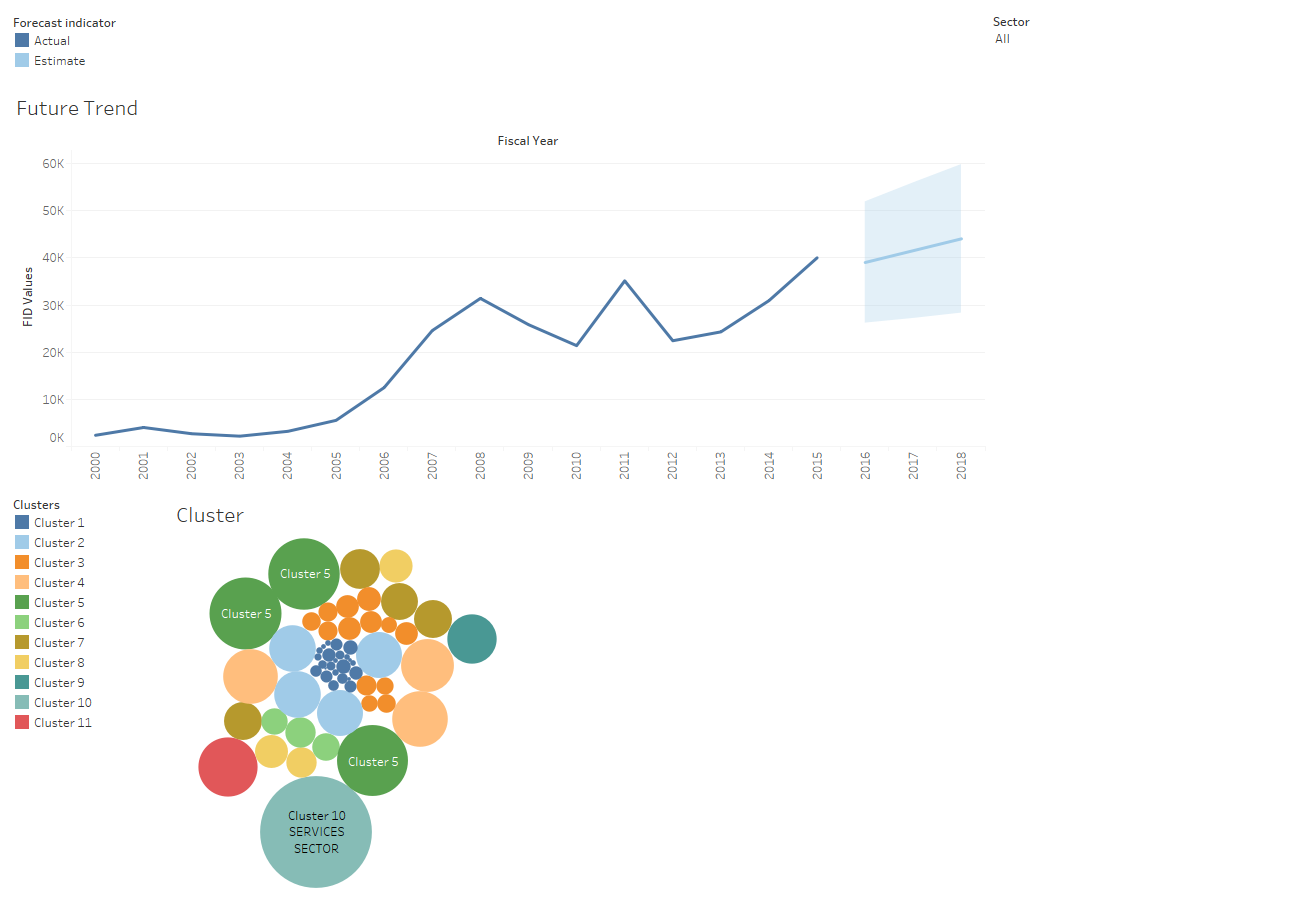

This screenshot's page, from the dashboard's own definition file:
{"tool":"tableau","page":{"name":"Dashboard 2","canvas":[1300,900],"ordinal":1},"visuals":[{"type":"worksheet","box":[0,0,1300,900]},{"type":"worksheet","param":"horz","box":[8,8,1284,884]},{"type":"worksheet","box":[8,8,981,884]},{"type":"worksheet","title":"Future Trend","mark":"Automatic","rows":["Pivot Field Values"],"cols":["Calculation_1034139109435863042"],"param":"[federated.14hefdv1iyk2om1h2tzwq1qrkhpz].[none:Forecast Indicator:nk]","box":[8,8,981,75]},{"type":"worksheet","param":"vert","box":[989,8,303,884]},{"type":"worksheet","title":"Future Trend","mark":"Automatic","rows":["Pivot Field Values"],"cols":["Calculation_1034139109435863042"],"param":"[federated.14hefdv1iyk2om1h2tzwq1qrkhpz].[none:Sector:nk]","box":[989,8,303,430]},{"type":"worksheet","title":"Future Trend","mark":"Automatic","rows":["Pivot Field Values"],"cols":["Calculation_1034139109435863042"],"box":[8,83,981,407]},{"type":"worksheet","title":"Cluster","mark":"Circle","param":"[federated.14hefdv1iyk2om1h2tzwq1qrkhpz].[none:AdhocCluster:1:ok]","box":[8,490,160,402]},{"type":"worksheet","title":"Cluster","mark":"Circle","box":[168,490,821,402]}]}

Visuals, with their boxes in screenshot pixels (x1, y1, x2, y2), scaled from the page's 1300x900 canvas onto the 1300x900 screenshot:
worksheet: region(0, 0, 1299, 899)
worksheet: region(8, 8, 1292, 892)
worksheet: region(8, 8, 989, 892)
"Future Trend" worksheet: region(8, 8, 989, 83)
worksheet: region(989, 8, 1292, 892)
"Future Trend" worksheet: region(989, 8, 1292, 438)
"Future Trend" worksheet: region(8, 83, 989, 490)
"Cluster" worksheet (Circle marks): region(8, 490, 168, 892)
"Cluster" worksheet (Circle marks): region(168, 490, 989, 892)
